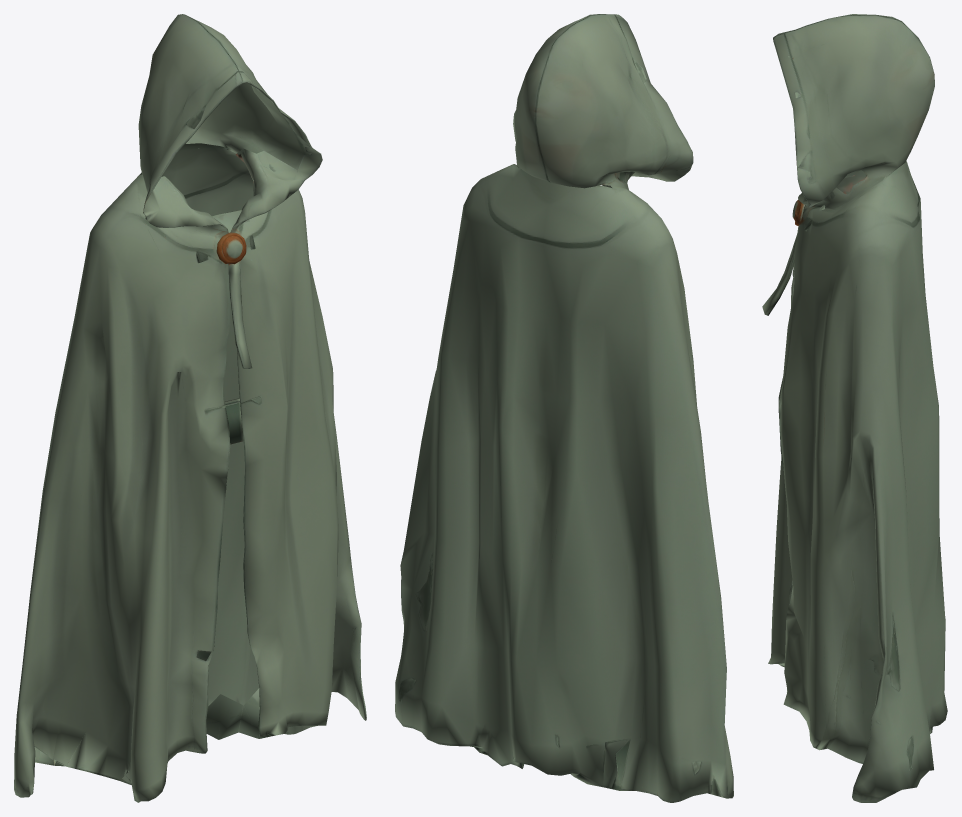
The model's file is moss-cloak_refine.glb.
3 renders of one model, left to right at view 1: azimuth 30°, elevation 25°; view 2: azimuth 150°, elevation 25°; view 3: azimuth 270°, elevation 25°, orthographic. The views are drawn at different scales.
Bounding box in the file's own units: 0.4526 × 0.9497 × 0.2212.
1 material, 1 textured.
